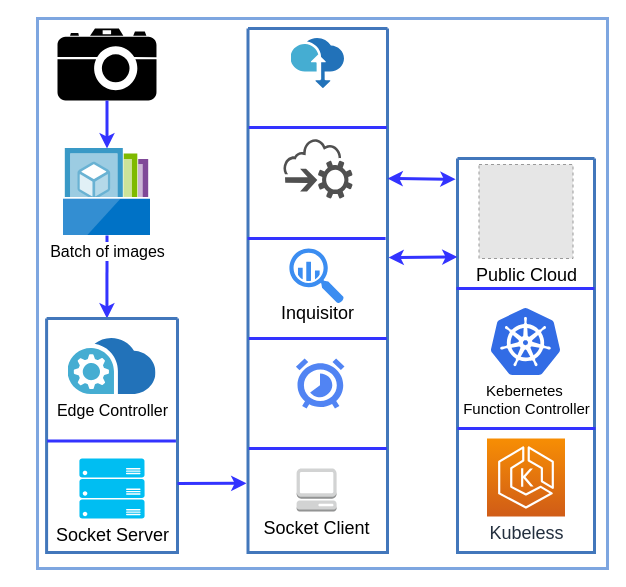
Some shapes in this 626 by 587 pixel diagram are drawn without their labels. Grey dashed boxes stand in for pictures. The shapes that lost their labels are listed below. From the top down, each one's centre as x and y in pixels, then its label:
At point (317, 63): "Edge Cloud".
At point (317, 168): "Requester".
At point (319, 383): "Cloud Scheduler".
